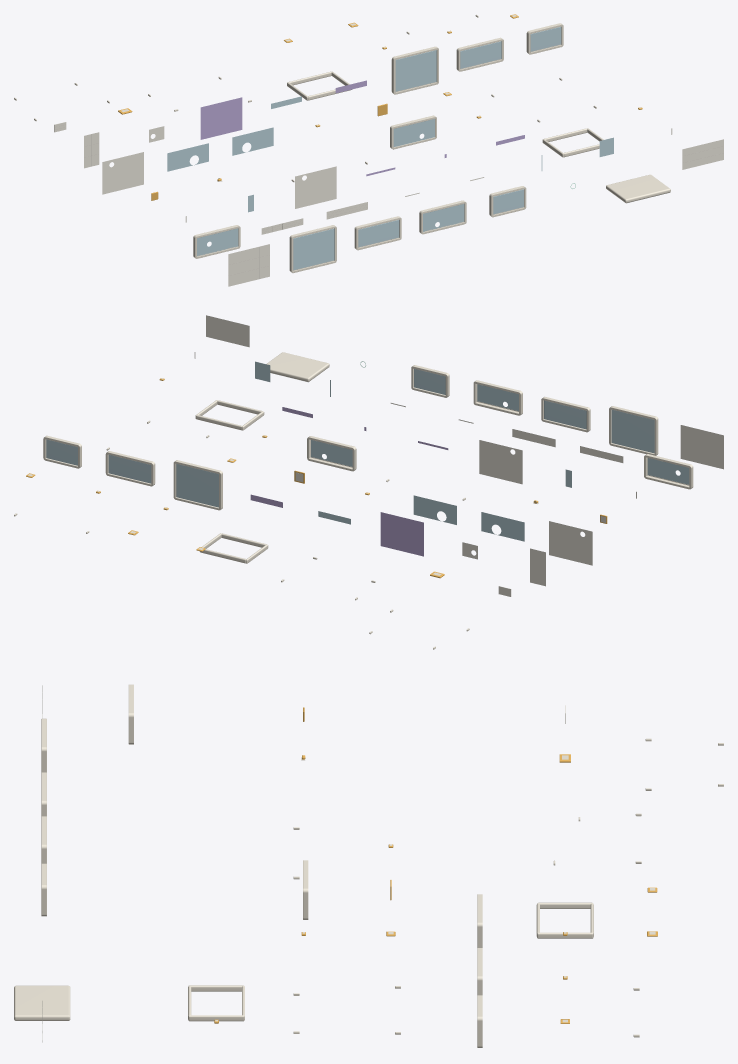
File: COghe_Lab_Kit.fbx
The picture shows the model from 3 angles, top to bottom: view 1: azimuth 30°, elevation 25°; view 2: azimuth 150°, elevation 25°; view 3: azimuth 270°, elevation 25°; orthographic projection. The views are drawn at different scales.
Visible parts, largest first — view 1: surface_2, surface_0, surface_0.002, surface_0.003, Powder blue panel, Powder blue panel.003, One piece ceramic chassis, surface_0.001, surface_3.002, surface_3.001, Powder blue panel.001, Powder blue panel.004 (+13 smaller); view 2: surface_2, surface_0, surface_0.002, surface_0.003, Powder blue panel, Powder blue panel.003, One piece ceramic chassis, surface_0.001, Powder blue panel.004, Powder blue panel.001, surface_6.003, surface_7.002 (+12 smaller); view 3: One piece ceramic chassis.
Boxes of the visible parts, bbox=[...] form: surface_2: bbox=[200, 97, 242, 139]; surface_0: bbox=[228, 244, 269, 286]; surface_0.002: bbox=[295, 166, 336, 208]; surface_0.003: bbox=[102, 152, 143, 194]; Powder blue panel: bbox=[293, 228, 334, 270]; Powder blue panel.003: bbox=[395, 50, 436, 91]; One piece ceramic chassis: bbox=[606, 174, 670, 203]; surface_0.001: bbox=[682, 139, 723, 169]; surface_3.002: bbox=[393, 119, 434, 146]; surface_3.001: bbox=[197, 228, 238, 256]; Powder blue panel.001: bbox=[358, 220, 399, 247]; Powder blue panel.004: bbox=[460, 41, 501, 68]; surface_2: bbox=[380, 512, 423, 556]; surface_0: bbox=[680, 425, 723, 469]; surface_0.002: bbox=[479, 440, 522, 484]; surface_0.003: bbox=[549, 521, 592, 565]; Powder blue panel: bbox=[611, 409, 654, 453]; Powder blue panel.003: bbox=[176, 464, 218, 507]; One piece ceramic chassis: bbox=[266, 352, 329, 381]; surface_0.001: bbox=[206, 315, 249, 347]; Powder blue panel.004: bbox=[108, 454, 151, 483]; Powder blue panel.001: bbox=[544, 400, 586, 429]; surface_6.003: bbox=[481, 512, 524, 541]; surface_7.002: bbox=[413, 495, 456, 524]; One piece ceramic chassis: bbox=[14, 985, 70, 1020].
Bounding box in the file's own units: 959 × 78.35 × 855.
